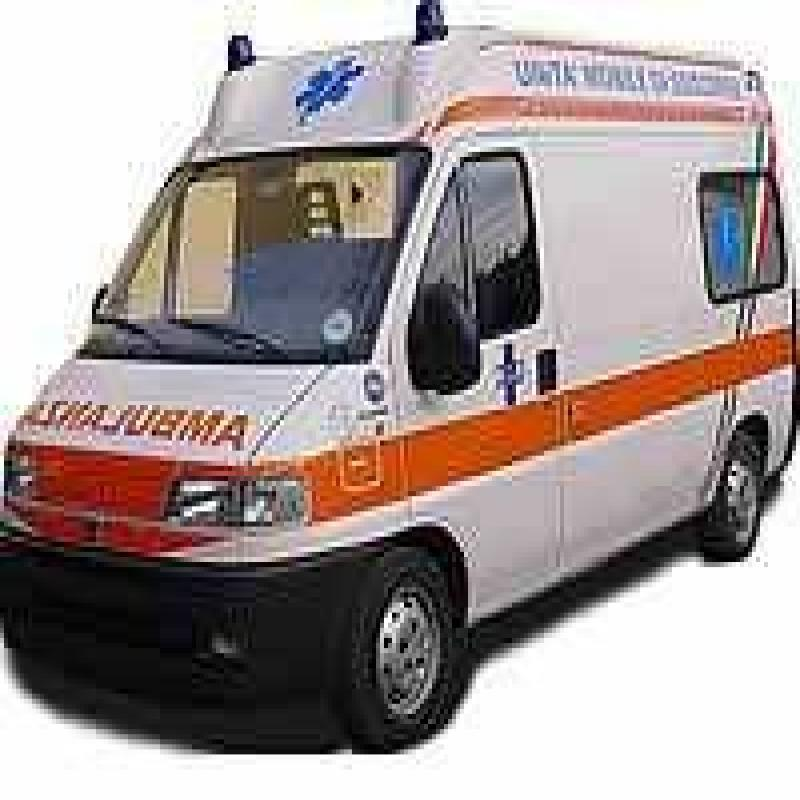AmbulanceSiren: (396, 0, 460, 56), (216, 24, 258, 79)
